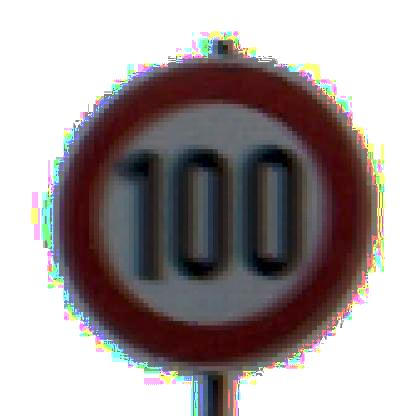Speed Limit -100-: (53, 58, 370, 373)
